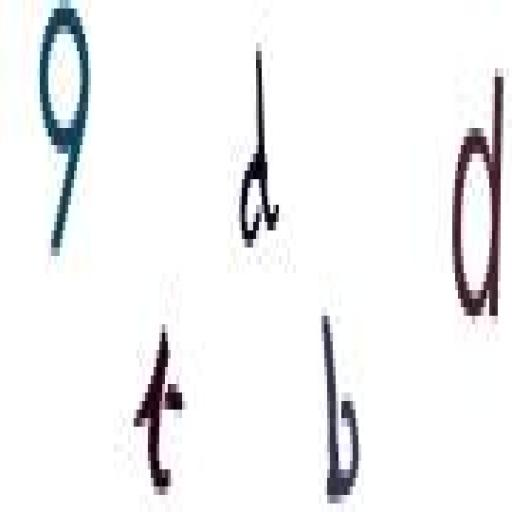9: (34, 0, 94, 266)
T: (131, 299, 183, 501)
b: (316, 290, 361, 512)
d: (446, 68, 509, 336), (238, 29, 282, 280)
